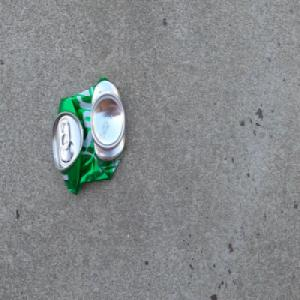SodaCan: (51, 75, 126, 196)
